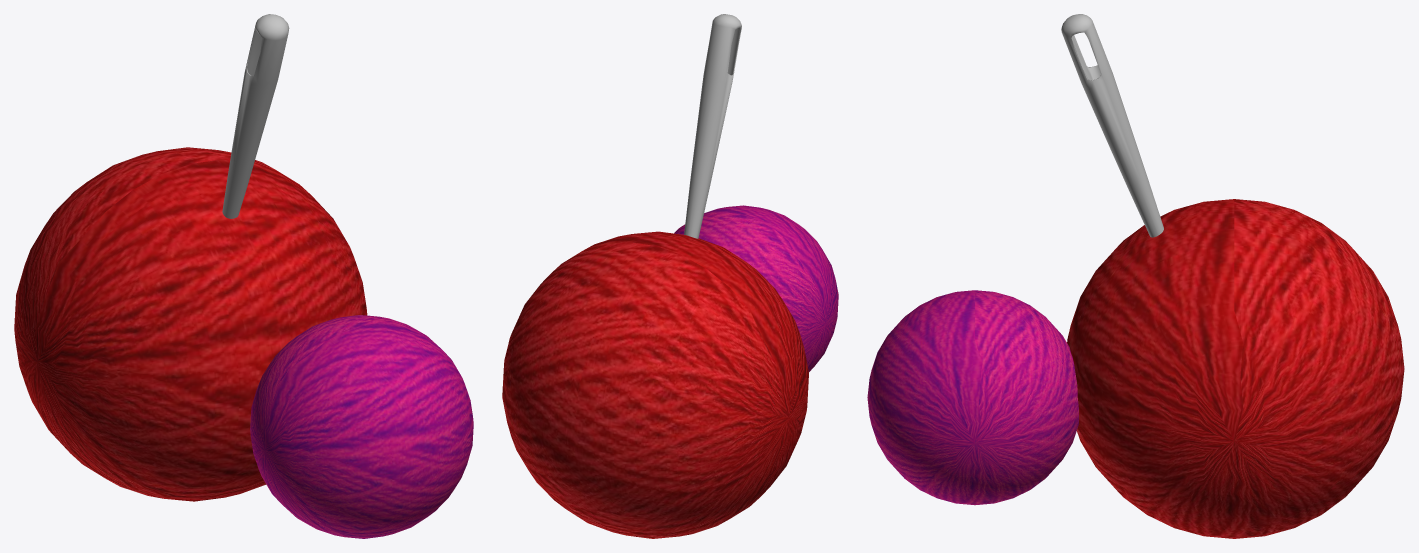
Rendered from RepairInstrument.fbx.
3 renders of one model, left to right at view 1: azimuth 30°, elevation 25°; view 2: azimuth 150°, elevation 25°; view 3: azimuth 270°, elevation 25°, orthographic. The views are drawn at different scales.
Visible parts, largest first — view 1: Cylinder.001; view 2: Cylinder.001; view 3: Cylinder.001.
Boxes of the visible parts, box(x1,y1,x2,y2) form: Cylinder.001: box(14, 14, 473, 538); Cylinder.001: box(502, 14, 838, 538); Cylinder.001: box(867, 14, 1404, 538).
Size of the model in its own units: 253 by 416 by 399.
